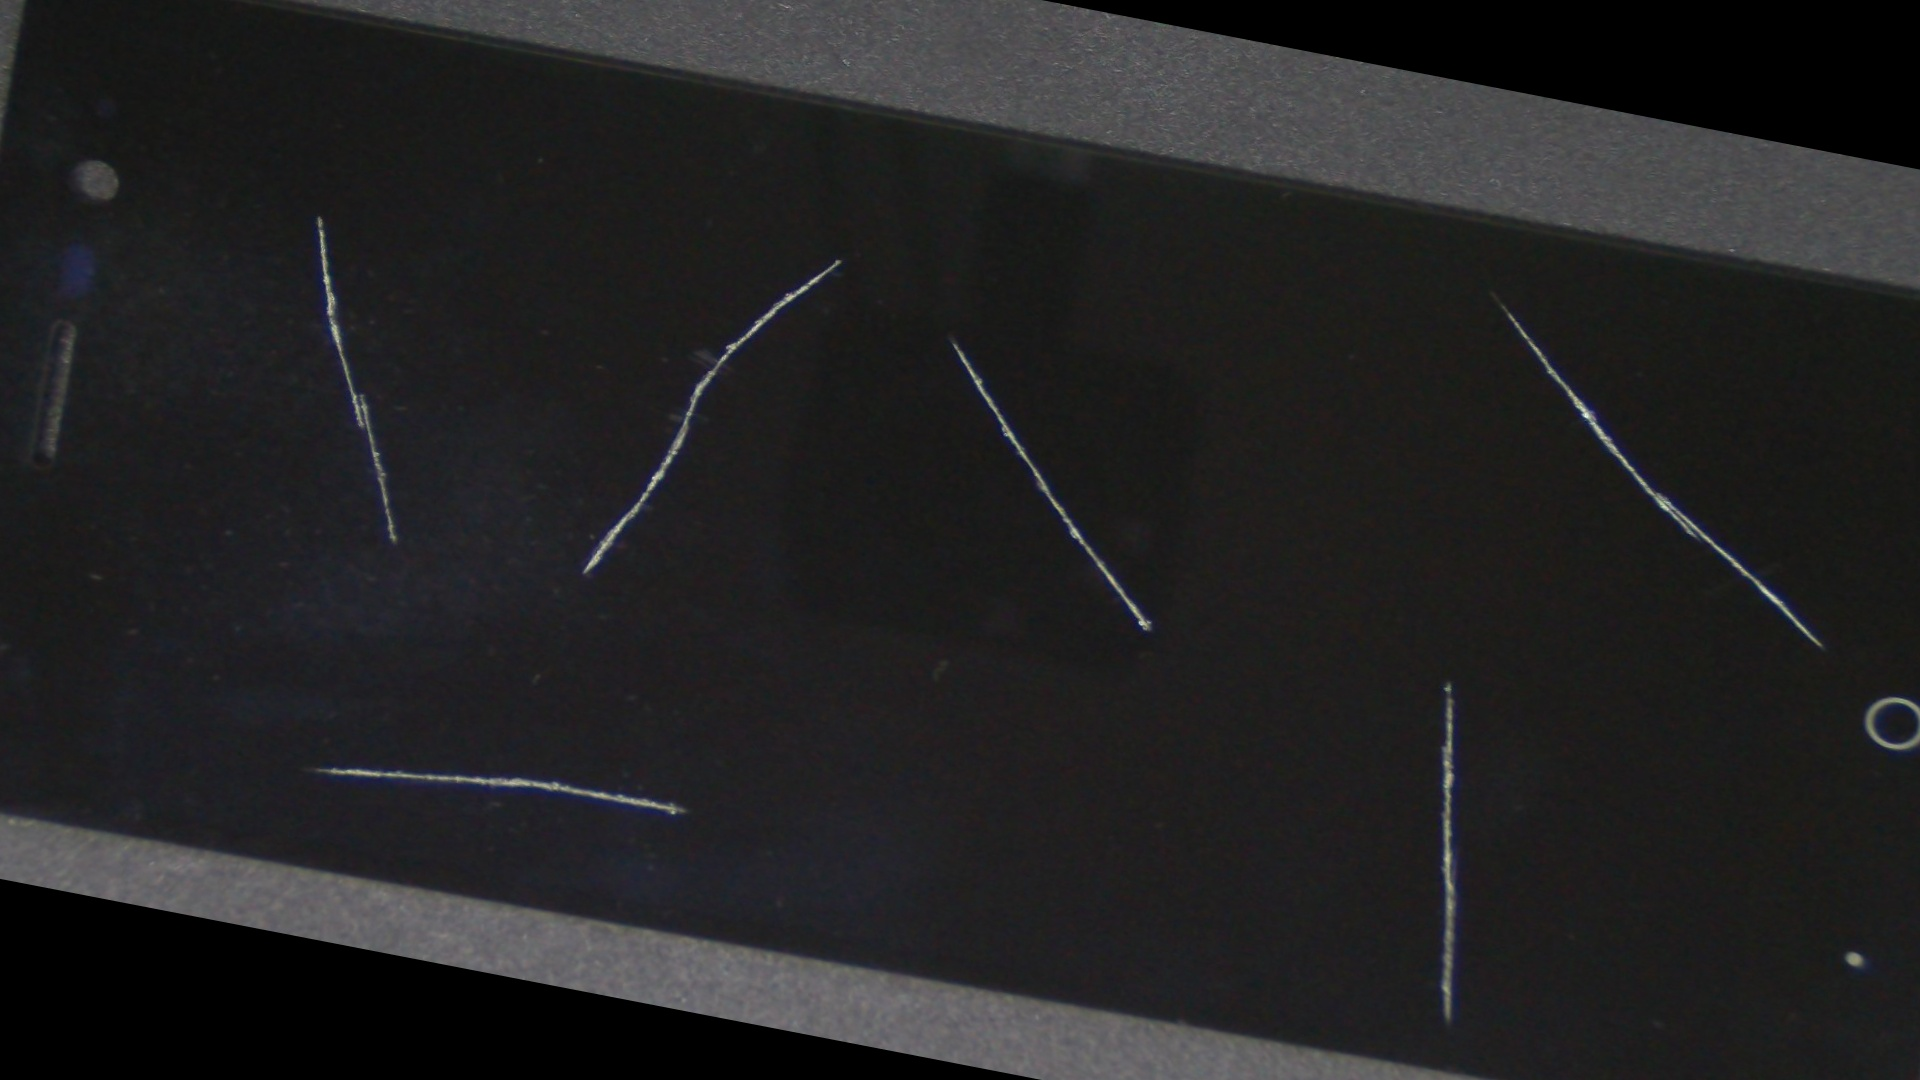oil: (607, 239, 1920, 1080), (152, 287, 1006, 1050), (400, 69, 1501, 615), (704, 49, 1920, 524), (355, 26, 1317, 491), (87, 4, 551, 425)
